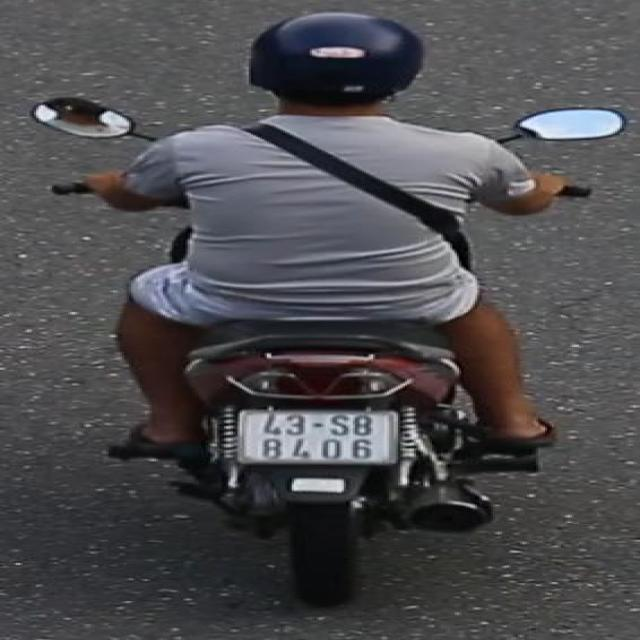LP: (232, 403, 401, 469)
helmet: (241, 4, 433, 146)
